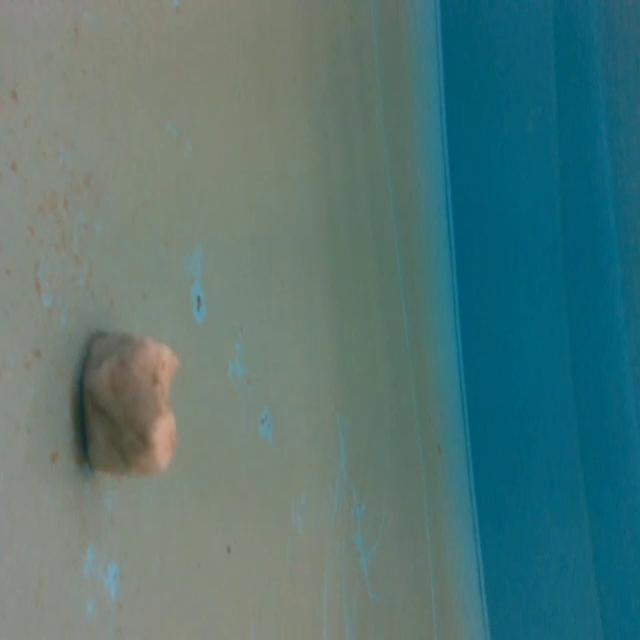rock: (75, 322, 182, 484)
